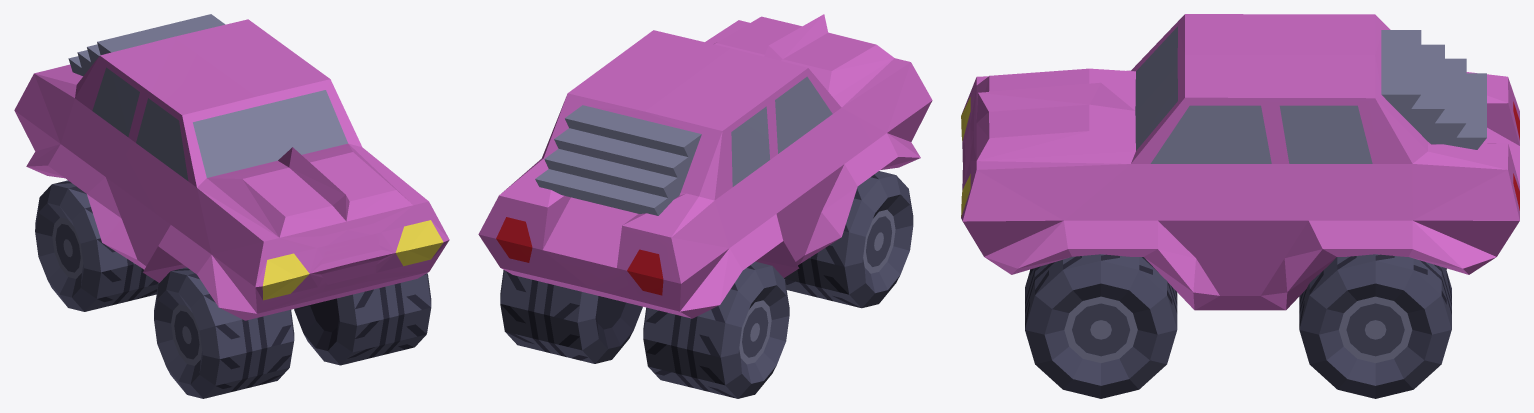
Rendered from Car_Pink.fbx.
The picture shows the model from 3 angles, left to right: view 1: azimuth 30°, elevation 25°; view 2: azimuth 150°, elevation 25°; view 3: azimuth 270°, elevation 25°; orthographic projection. The views are drawn at different scales.
Parts seen in each view (by area): view 1: Car_Pink; view 2: Car_Pink; view 3: Car_Pink.
Boxes of the visible parts, x1,y1,x2,y2 form: Car_Pink: (14, 14, 449, 398); Car_Pink: (478, 14, 932, 398); Car_Pink: (961, 14, 1519, 398).
Bounding box in the file's own units: 108 × 111 × 198.
